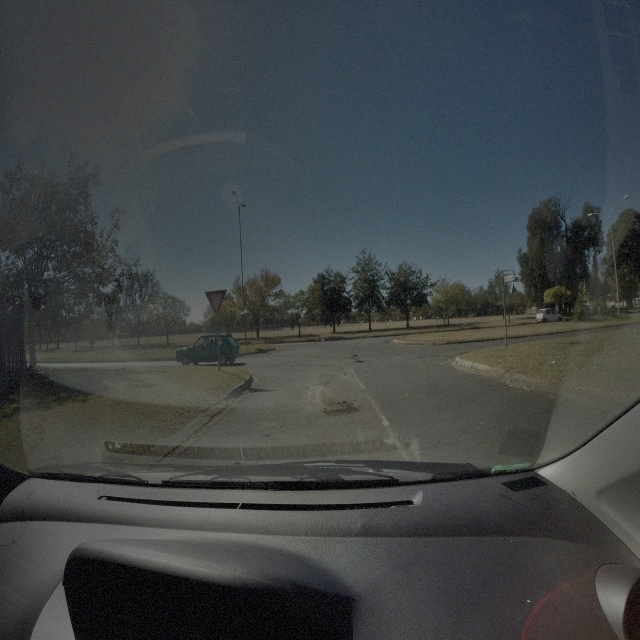pothole: (324, 408, 359, 416)
